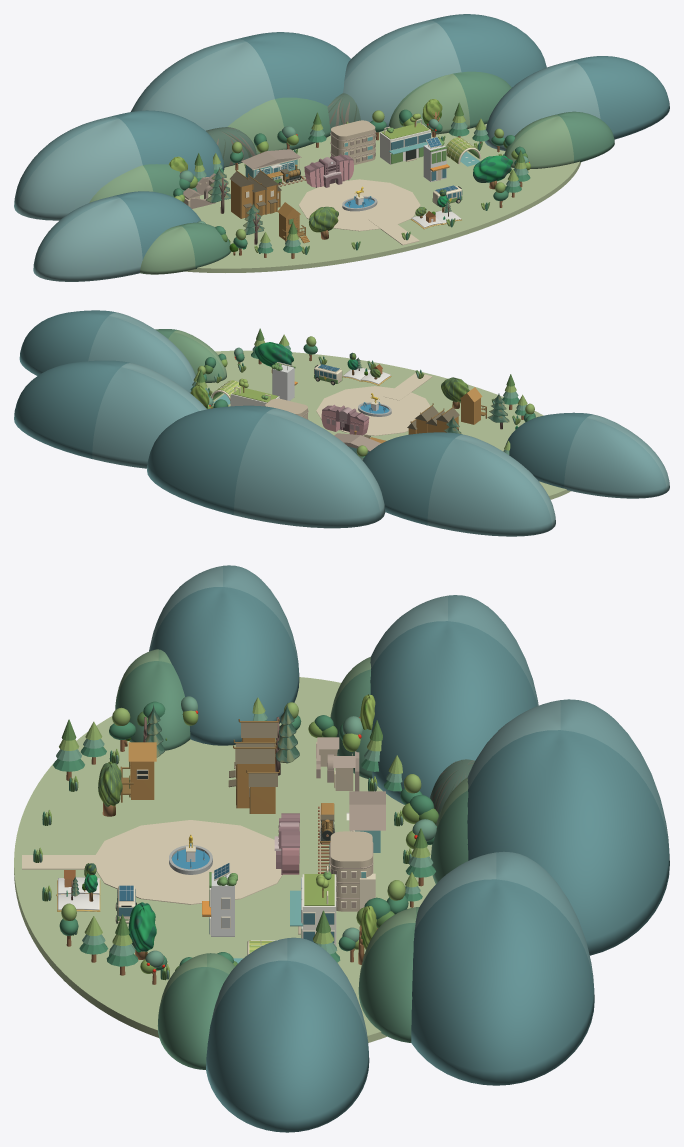
File: chiayi-v6.glb
3 renders of one model, top to bottom at view 1: azimuth 30°, elevation 25°; view 2: azimuth 150°, elevation 25°; view 3: azimuth 270°, elevation 25°, orthographic. The views are drawn at different scales.
Parts seen in each view (by area): view 1: Town ground ellipse, hill_teal.002, hill_teal.001, hill_teal.003, hill_teal.005, hill_teal.004, hill_green.005, hill_green.003, Drawing dance plaza, hill_green.004, hill_green.002, hill_green.001 (+15 smaller); view 2: hill_teal.002, hill_teal.001, hill_teal.003, hill_teal.004, hill_teal.005, Town ground ellipse, Drawing dance plaza, hill_green.005, 01_traditional_house, 04_solar_townhouse, 05_rooftop_garden_building, 06_wooden_hut (+8 smaller); view 3: Town ground ellipse, hill_teal.003, hill_teal.002, hill_teal.005, hill_teal.001, hill_teal.004, Drawing dance plaza, hill_green.003, hill_green.005, hill_green.004, 01_traditional_house, 07_curved_apartment (+15 smaller).
Boxes of the visible parts, left/top/right/bottom form: Town ground ellipse: left=185, top=124, right=580, bottom=272; hill_teal.002: left=131, top=32, right=350, bottom=130; hill_teal.001: left=14, top=110, right=224, bottom=220; hill_teal.003: left=343, top=14, right=546, bottom=129; hill_teal.005: left=485, top=56, right=669, bottom=150; hill_teal.004: left=33, top=191, right=201, bottom=281; hill_green.005: left=504, top=111, right=614, bottom=168; hill_green.003: left=388, top=71, right=511, bottom=134; Drawing dance plaza: left=298, top=179, right=420, bottom=231; hill_green.004: left=140, top=222, right=230, bottom=274; hill_green.002: left=227, top=97, right=330, bottom=154; hill_green.001: left=89, top=164, right=197, bottom=202; hill_teal.002: left=147, top=405, right=385, bottom=528; hill_teal.001: left=362, top=432, right=555, bottom=536; hill_teal.003: left=14, top=360, right=206, bottom=468; hill_teal.004: left=506, top=412, right=669, bottom=498; hill_teal.005: left=19, top=310, right=195, bottom=392; Town ground ellipse: left=206, top=350, right=570, bottom=499; Drawing dance plaza: left=316, top=386, right=430, bottom=435; hill_green.005: left=155, top=329, right=226, bottom=382; 01_traditional_house: left=407, top=403, right=459, bottom=434; 04_solar_townhouse: left=271, top=362, right=297, bottom=400; 05_rooftop_garden_building: left=230, top=378, right=279, bottom=406; 06_wooden_hut: left=460, top=387, right=486, bottom=424; Town ground ellipse: left=14, top=677, right=435, bottom=1042; hill_teal.003: left=411, top=851, right=594, bottom=1085; hill_teal.002: left=467, top=699, right=669, bottom=955; hill_teal.005: left=206, top=937, right=369, bottom=1132; hill_teal.001: left=370, top=595, right=538, bottom=804; hill_teal.004: left=149, top=565, right=299, bottom=745; Drawing dance plaza: left=96, top=820, right=282, bottom=904; hill_green.003: left=358, top=907, right=419, bottom=1042; hill_green.005: left=157, top=953, right=235, bottom=1069; hill_green.004: left=115, top=649, right=190, bottom=750; 01_traditional_house: left=228, top=719, right=279, bottom=813; 07_curved_apartment: left=329, top=831, right=375, bottom=911.
Bounding box in the file's own units: 76.3 × 9.6 × 40.8.
Materials: 144 (7 with a texture image).
